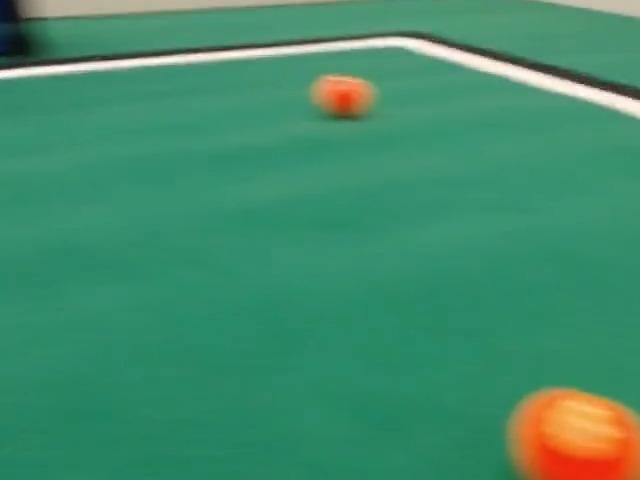Ball: (507, 388, 639, 479), (310, 75, 375, 118)
